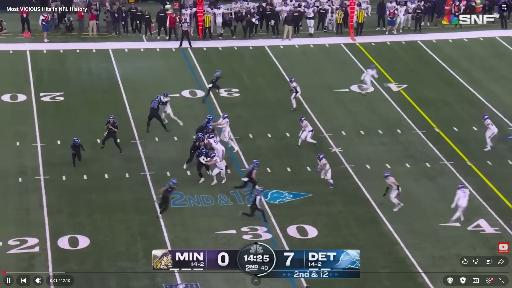Helmet: (256, 187, 265, 196), (383, 171, 392, 179), (289, 77, 297, 85), (317, 152, 325, 160), (199, 146, 207, 154), (209, 152, 217, 160), (481, 114, 489, 121), (206, 115, 213, 123), (197, 133, 204, 141), (73, 138, 80, 145), (253, 159, 260, 166), (208, 133, 215, 140), (458, 184, 466, 190), (207, 123, 213, 131), (171, 178, 177, 185), (156, 95, 162, 102), (299, 115, 305, 122), (222, 113, 228, 119), (109, 115, 114, 121), (164, 92, 169, 97), (216, 70, 221, 74), (370, 66, 375, 69)
Jersey: (454, 188, 469, 206), (251, 192, 263, 210), (361, 69, 378, 81), (207, 139, 223, 150), (105, 120, 118, 133), (163, 183, 175, 197), (386, 177, 398, 190), (213, 156, 225, 169), (246, 165, 258, 178), (191, 138, 202, 151), (71, 142, 83, 153), (301, 120, 313, 131), (484, 119, 496, 130), (318, 159, 330, 170), (290, 82, 301, 93), (281, 5, 291, 17), (200, 127, 215, 135), (215, 9, 224, 22), (219, 119, 229, 129), (211, 75, 221, 85), (305, 8, 315, 18), (398, 6, 407, 17), (182, 10, 192, 19), (151, 100, 160, 110), (196, 151, 206, 160), (407, 2, 415, 13), (245, 2, 255, 10), (232, 2, 240, 11), (387, 2, 396, 10), (161, 97, 169, 106), (321, 0, 328, 7), (287, 0, 295, 6), (360, 0, 369, 5)
Player: (212, 114, 237, 151), (241, 188, 267, 222), (234, 160, 259, 194), (160, 92, 183, 125), (147, 96, 168, 132), (384, 172, 403, 211), (158, 179, 177, 218), (101, 115, 121, 152), (450, 184, 469, 222), (184, 133, 204, 168), (206, 152, 226, 185), (297, 117, 317, 147), (203, 70, 221, 102), (361, 64, 378, 95), (482, 115, 497, 150), (206, 133, 225, 160), (318, 154, 333, 187), (196, 148, 210, 182), (304, 4, 316, 37), (289, 78, 301, 110), (71, 138, 84, 167), (403, 0, 416, 29), (396, 2, 407, 32), (196, 116, 213, 134), (214, 5, 224, 35), (189, 4, 196, 35), (203, 124, 217, 138), (280, 2, 291, 19), (360, 0, 371, 16), (232, 0, 240, 17), (387, 0, 396, 10)
